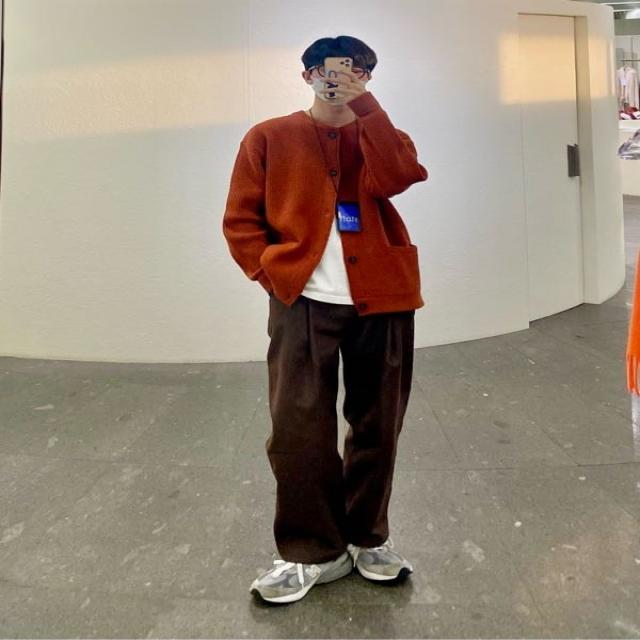cardigan: (222, 94, 430, 314)
cottonpants: (263, 283, 416, 560)
